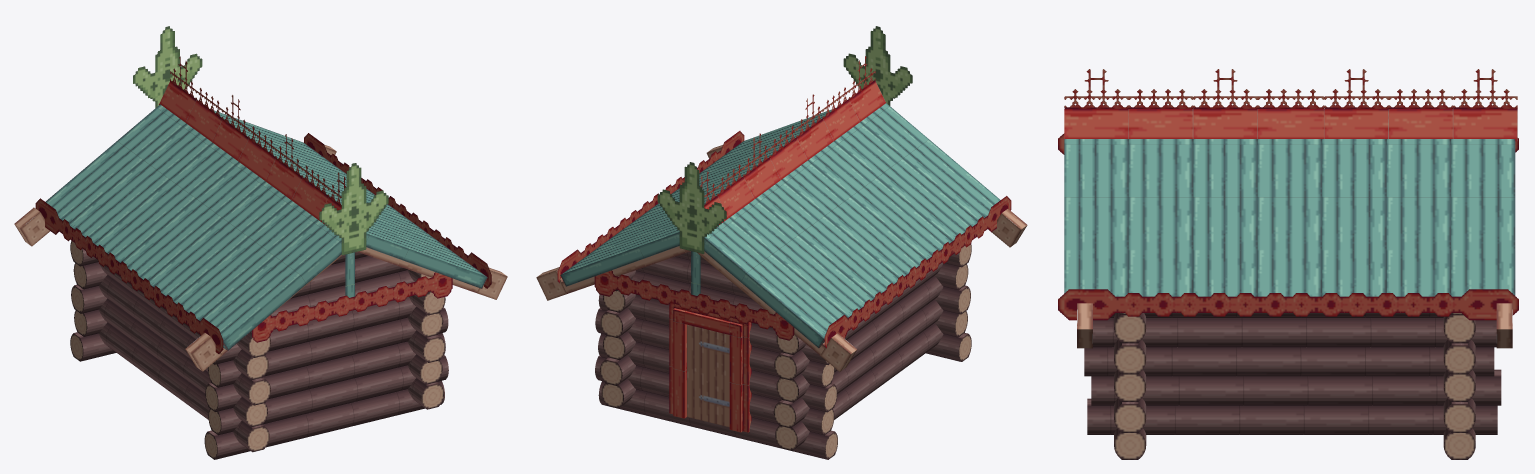
File: wood_house_smaller.fbx
The picture shows the model from 3 angles, left to right: view 1: azimuth 30°, elevation 25°; view 2: azimuth 150°, elevation 25°; view 3: azimuth 270°, elevation 25°; orthographic projection. The views are drawn at different scales.
Parts seen in each view (by area): view 1: wood_house_smaller; view 2: wood_house_smaller; view 3: wood_house_smaller.
Part boxes in pixels (x1,y1,x2,y2): wood_house_smaller: (14,26,507,459); wood_house_smaller: (536,26,1027,459); wood_house_smaller: (1058,69,1518,459).
Bounding box in the file's own units: 695 × 608 × 721.
